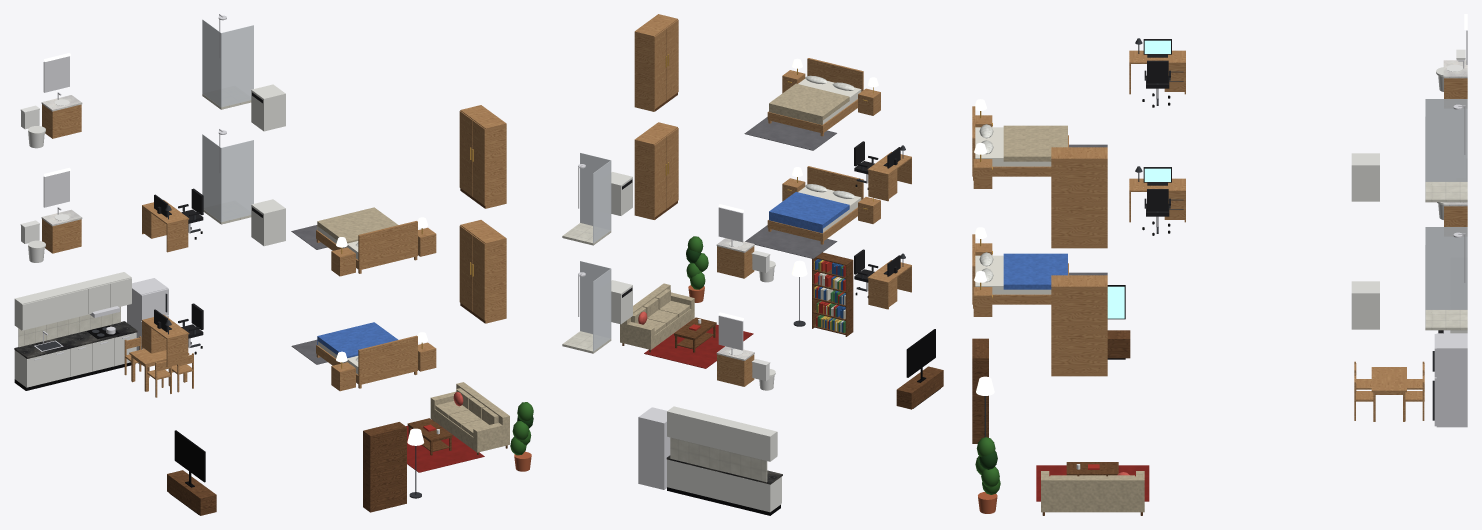
File: i_london_terrace.gltf
The picture shows the model from 3 angles, left to right: view 1: azimuth 30°, elevation 25°; view 2: azimuth 150°, elevation 25°; view 3: azimuth 270°, elevation 25°; orthographic projection. The views are drawn at different scales.
Visible parts, largest first — view 1: I_london_terrace; view 2: I_london_terrace; view 3: I_london_terrace.
Part boxes in pixels (x1,y1,x2,y2): I_london_terrace: (14,14,533,515); I_london_terrace: (562,14,943,515); I_london_terrace: (972,14,1467,515).
Bounding box in the file's own units: 8.36 × 8.4 × 10.52.
33 materials, 12 textured.
